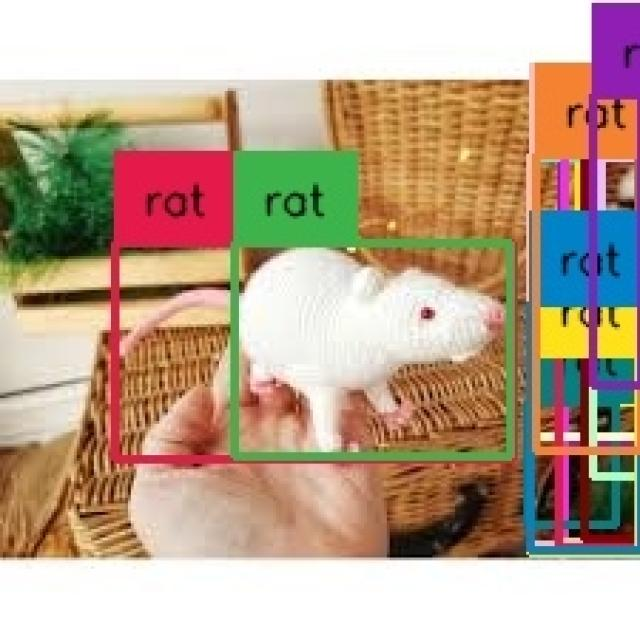rat: (117, 242, 512, 458), (233, 243, 512, 457), (532, 155, 640, 545), (535, 156, 640, 452), (537, 156, 640, 437), (566, 155, 640, 542), (529, 304, 640, 549), (529, 326, 640, 553), (535, 158, 640, 385), (563, 156, 640, 446), (529, 354, 640, 553), (586, 155, 640, 539), (529, 397, 640, 550), (557, 348, 640, 547), (589, 156, 640, 452), (594, 155, 640, 476), (580, 156, 640, 387), (594, 96, 640, 386), (557, 401, 640, 543), (591, 156, 640, 383), (528, 404, 616, 523), (600, 158, 640, 260)
